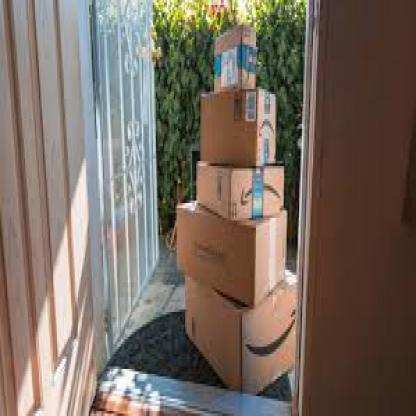package: (183, 271, 302, 397), (176, 198, 293, 301), (201, 86, 278, 168), (196, 156, 288, 221), (212, 24, 257, 93)
